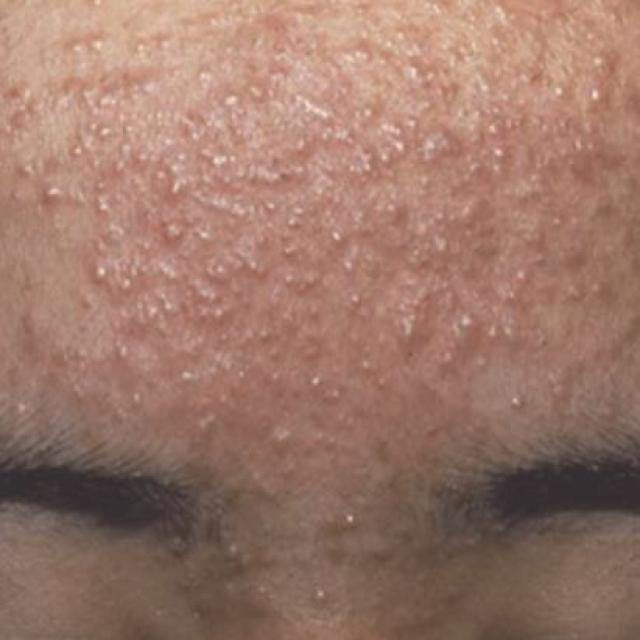fungal: (8, 24, 636, 418)
